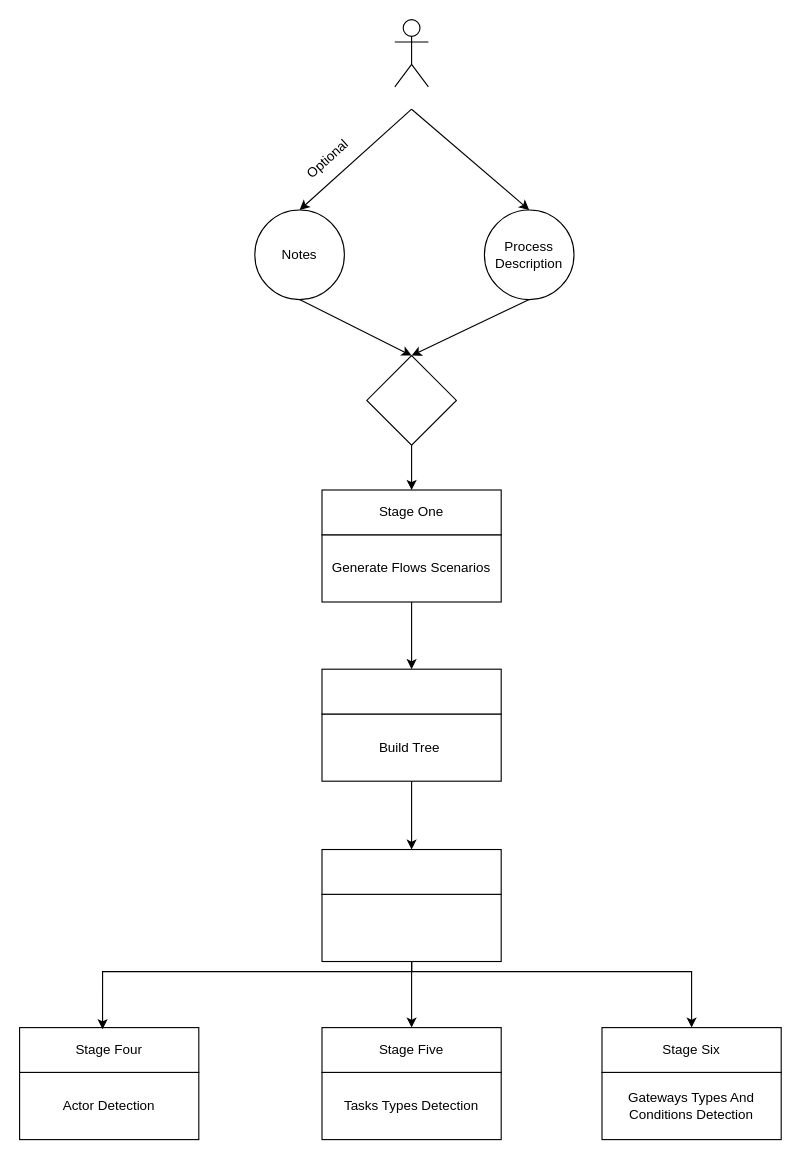
This 801x1159 diagram has some shape labels left out. The centre of each missing label's shape, as x and y in pixels:
"Add Gateways To The Tree" goes at point (411, 927).
"Prompt" goes at point (411, 399).
"Stage Three" goes at point (411, 871).
"Stage Two" goes at point (411, 691).
"User" goes at point (411, 52).
